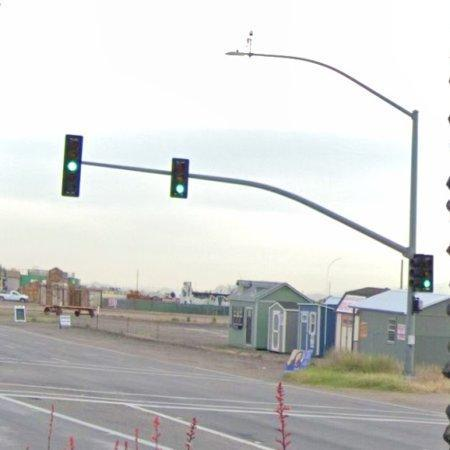traffic lights: (61, 132, 85, 201), (169, 158, 190, 199), (409, 252, 423, 291), (423, 253, 435, 291)
